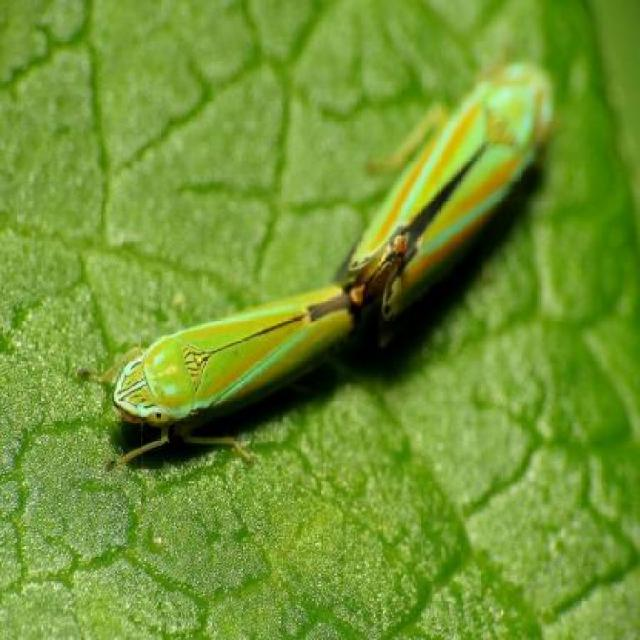green-leafhopper: (74, 59, 553, 470)
